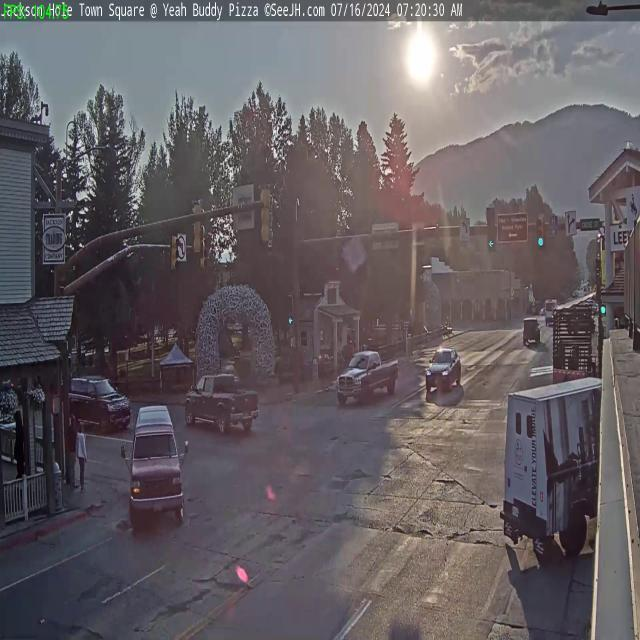person: (66, 413, 76, 492), (77, 424, 89, 488)
pickup: (185, 368, 259, 441), (333, 348, 399, 412)
suv: (66, 367, 128, 431), (426, 346, 462, 392), (522, 316, 542, 344)
traffic light: (260, 184, 274, 244), (190, 199, 204, 256), (486, 207, 496, 249), (170, 234, 180, 272), (536, 215, 544, 248)
truck: (502, 370, 612, 568), (121, 404, 190, 528)
